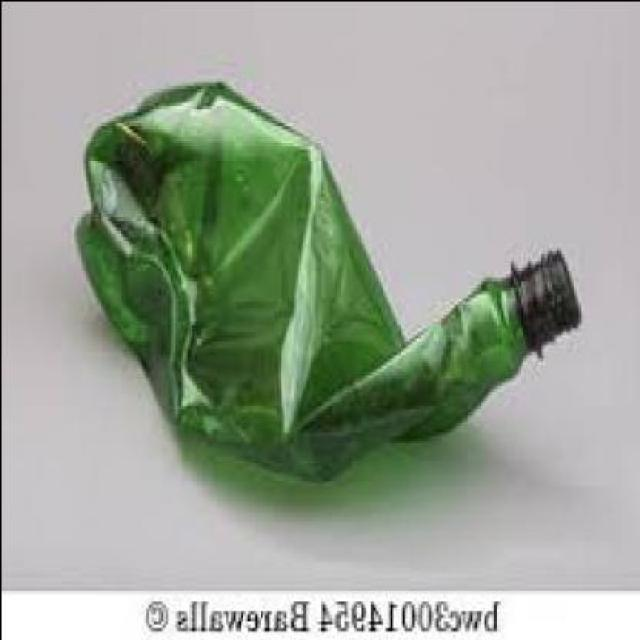PLASTIC: (78, 78, 582, 474)
